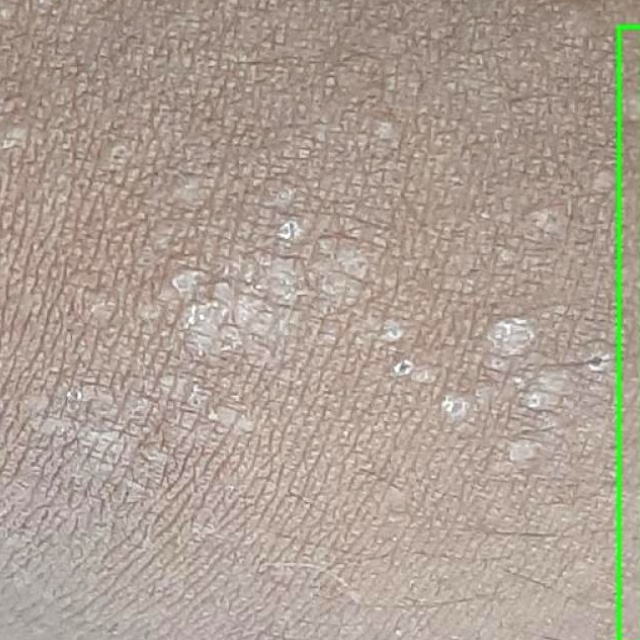Atopic Dermatitis: (619, 27, 639, 639)
